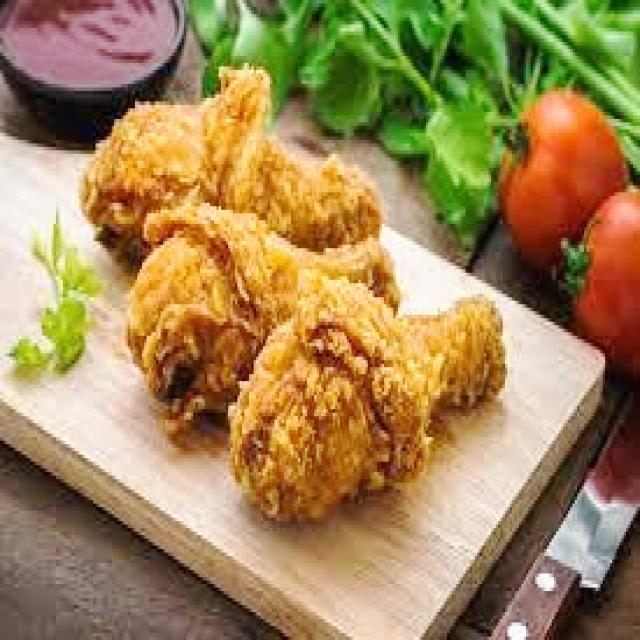fried_chicken: (228, 273, 507, 528), (125, 203, 402, 427), (79, 70, 384, 255)
